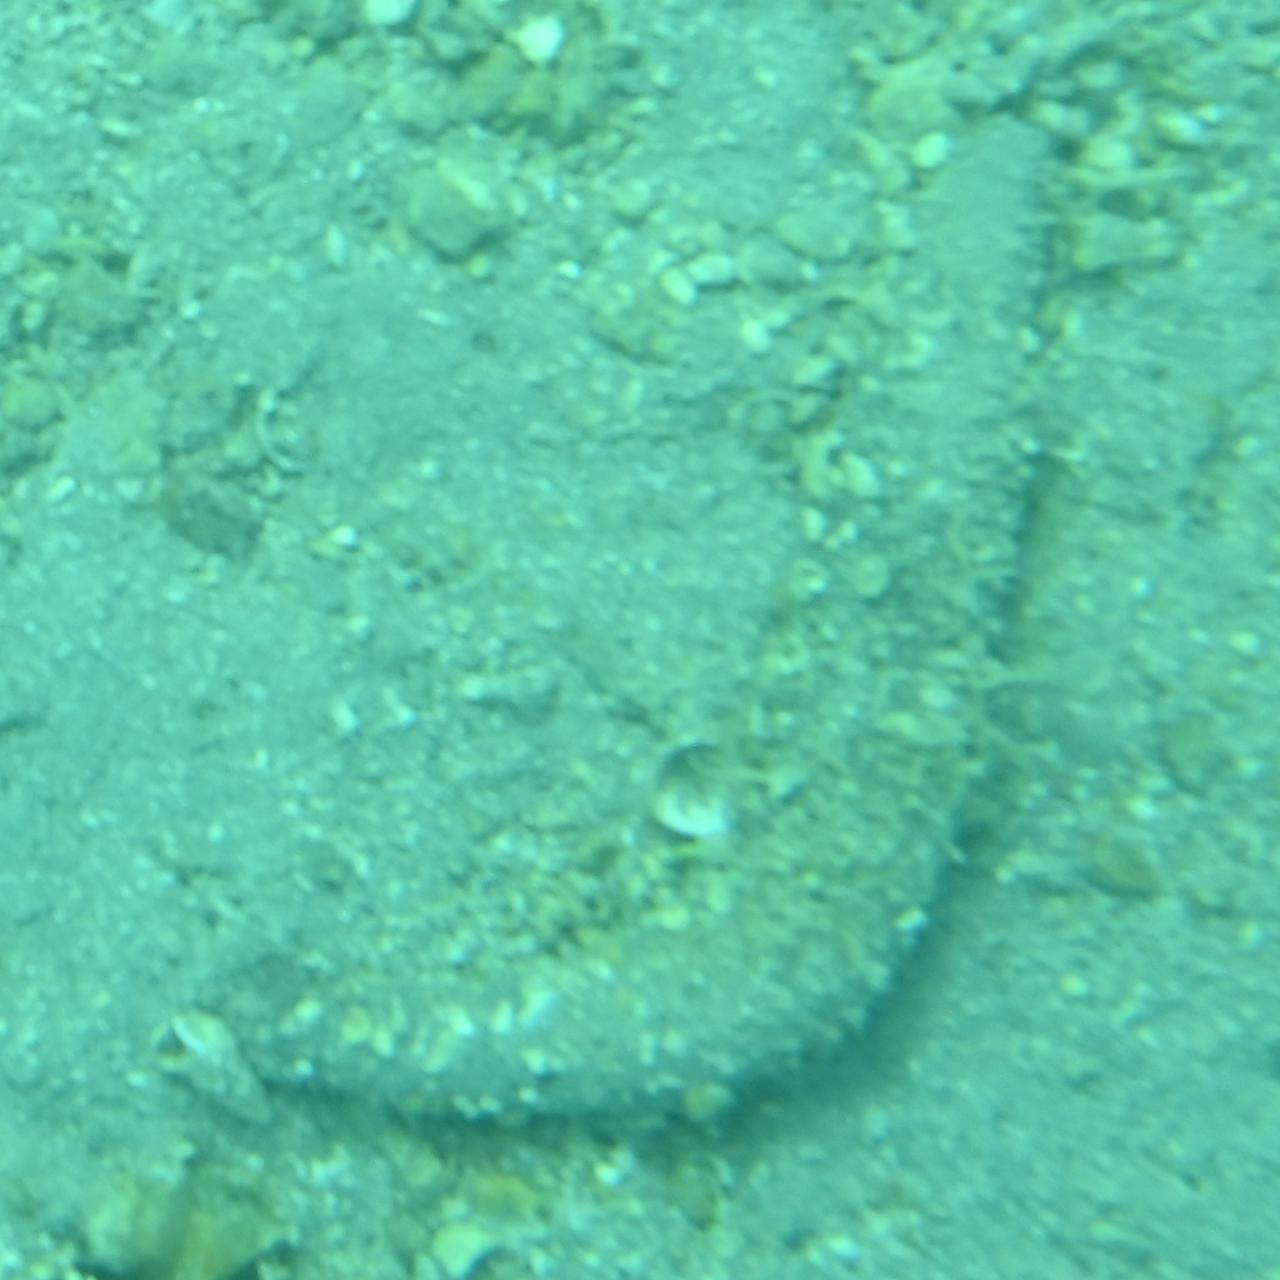Holothuria tubulosa: (194, 123, 1086, 1157)
